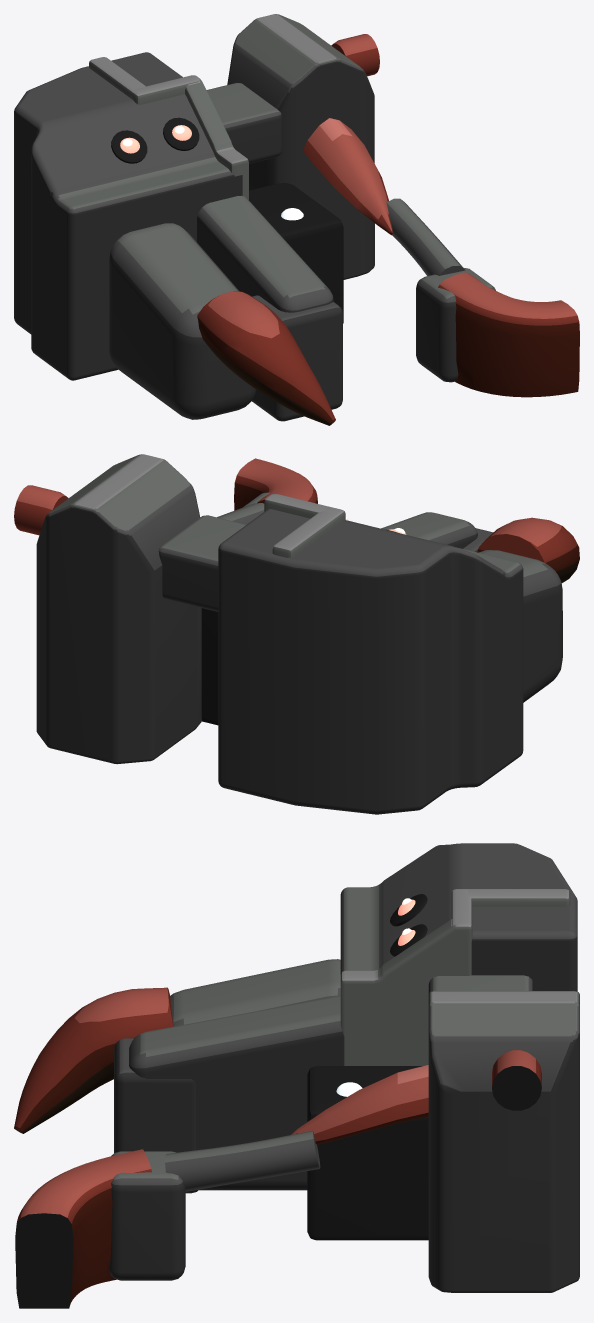
Rendered from claw_gate_left.glb.
The picture shows the model from 3 angles, top to bottom: view 1: azimuth 30°, elevation 25°; view 2: azimuth 150°, elevation 25°; view 3: azimuth 270°, elevation 25°; orthographic projection. The views are drawn at different scales.
Visible parts, largest first — view 1: tower.001, leg_outer.001, cap.001, arc.001, claw.001, leg_inner.001, under.001, fang.001, leg_foot.001, strut_foot.001, beam.001, strut.001 (+6 smaller); view 2: tower.001, cap.001, leg_outer.001, beam.001, claw.001, arc.001, under.001, leg_inner.001, pin.001, strap_spine.001, strap_cross.001, strut.001; view 3: cap.001, leg_inner.001, tower.001, under.001, arc.001, strap_side.001, claw.001, strut_foot.001, leg_foot.001, leg_outer.001, strut.001, fang.001 (+4 smaller).
Boxes of the visible parts, <box> form: tower.001: <box>14,52,242,380</box>; leg_outer.001: <box>109,223,256,419</box>; cap.001: <box>227,14,374,279</box>; arc.001: <box>438,272,579,397</box>; claw.001: <box>197,291,335,425</box>; leg_inner.001: <box>197,195,333,312</box>; under.001: <box>249,183,343,323</box>; fang.001: <box>303,118,392,235</box>; leg_foot.001: <box>252,295,342,421</box>; strut_foot.001: <box>416,268,495,382</box>; beam.001: <box>206,83,282,163</box>; strut.001: <box>386,198,465,275</box>; tower.001: <box>218,509,523,814</box>; cap.001: <box>36,454,201,764</box>; leg_outer.001: <box>478,550,562,702</box>; beam.001: <box>158,515,246,611</box>; claw.001: <box>477,517,579,582</box>; arc.001: <box>234,458,317,510</box>; under.001: <box>201,608,218,725</box>; leg_inner.001: <box>381,512,477,548</box>; pin.001: <box>14,485,68,535</box>; strap_spine.001: <box>272,507,344,557</box>; strap_cross.001: <box>268,494,345,521</box>; strut.001: <box>217,503,264,524</box>; cap.001: <box>428,991,579,1292</box>; leg_inner.001: <box>129,995,344,1190</box>; tower.001: <box>340,843,577,991</box>; under.001: <box>307,1066,428,1240</box>; arc.001: <box>15,1149,151,1308</box>; strap_side.001: <box>340,918,472,1065</box>; claw.001: <box>14,987,173,1133</box>; strut_foot.001: <box>109,1151,185,1280</box>; leg_foot.001: <box>114,1038,198,1193</box>; leg_outer.001: <box>170,959,340,1026</box>; strut.001: <box>165,1130,320,1191</box>; fang.001: <box>291,1065,428,1144</box>.
Bounding box in the file's own units: 21.55 × 12.52 × 23.75.
